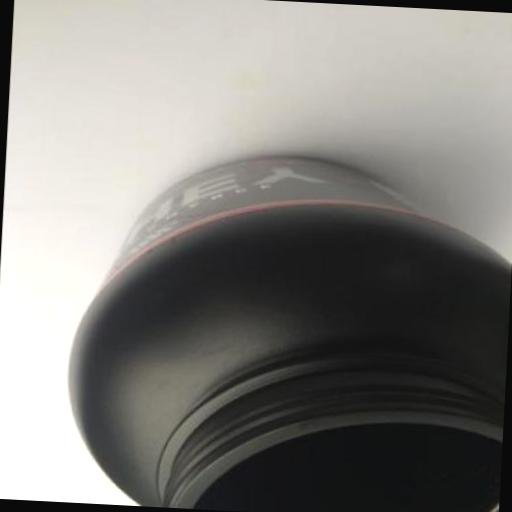plastic: (59, 147, 512, 512)
